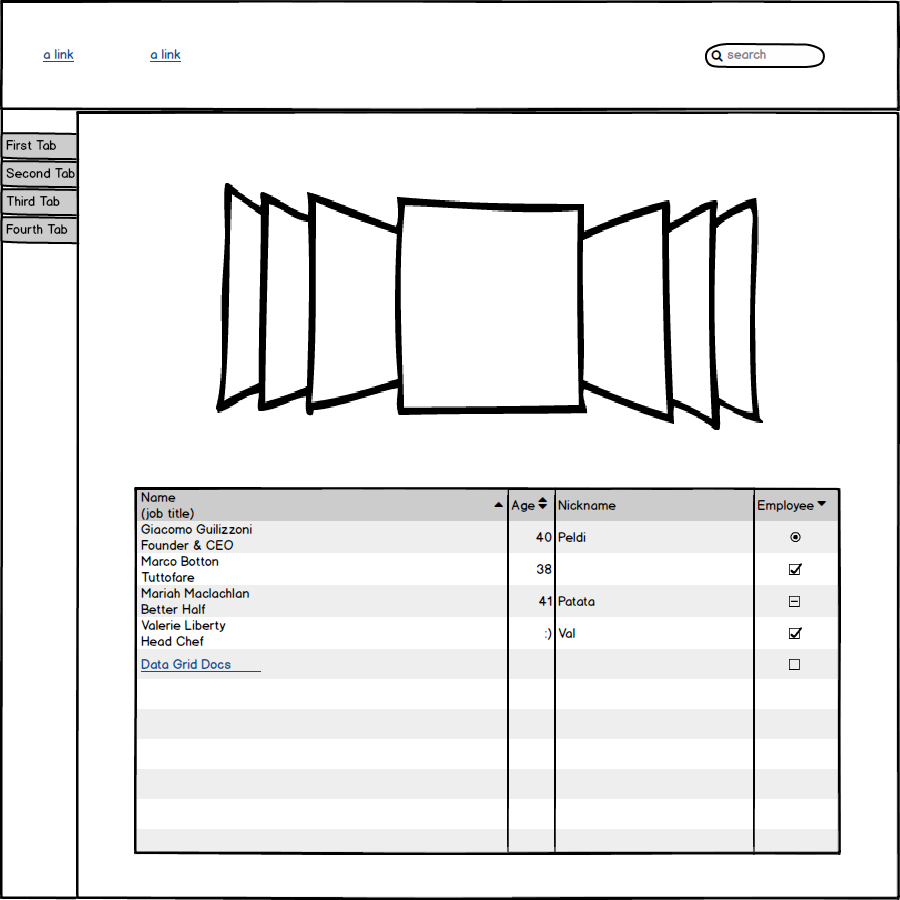navlink: (37, 41, 82, 71), (142, 41, 190, 69)
search: (693, 33, 827, 74)
sidebar: (2, 126, 87, 251)
slideshow: (207, 174, 774, 440)
table: (128, 480, 849, 862)
